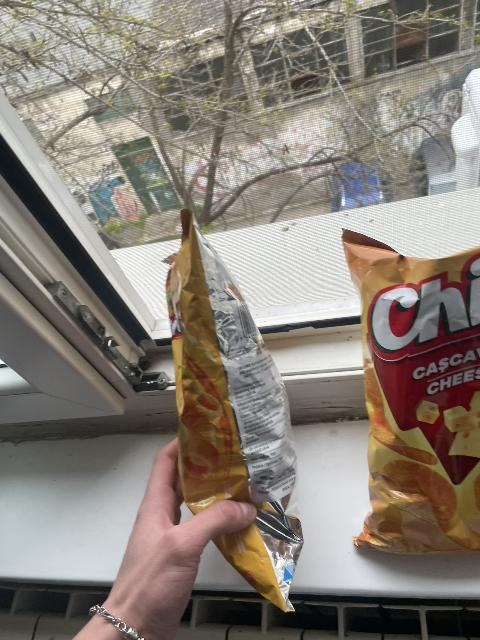Chio Cascaval 125g: (346, 231, 477, 555)
Chio Hula Hoops Cheese 70g: (166, 217, 304, 604)
